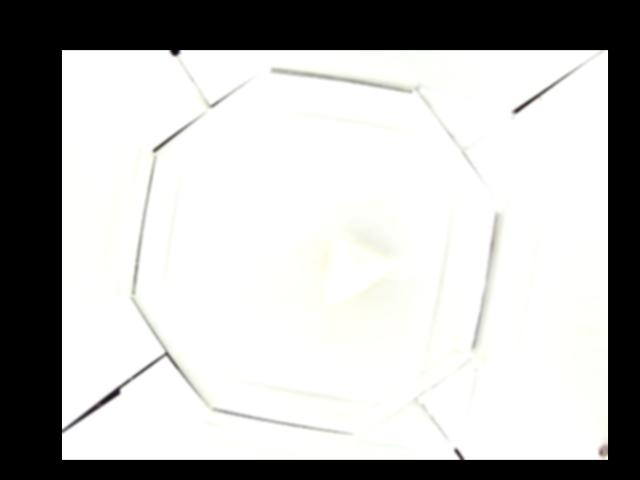Mooli: (324, 237, 394, 307)
